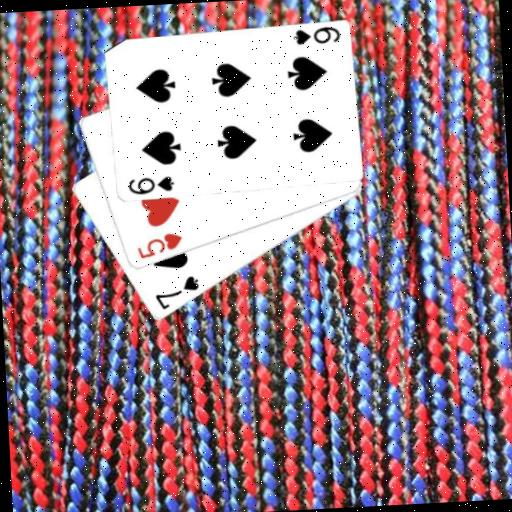5H: (134, 230, 185, 261)
6S: (124, 174, 176, 198), (290, 24, 342, 48)
7S: (151, 273, 202, 313)
